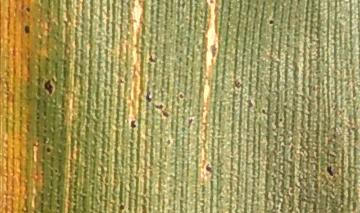tarspot: (42, 78, 55, 96), (324, 163, 336, 177), (232, 78, 244, 91), (147, 53, 158, 66), (204, 161, 214, 174), (245, 97, 255, 110), (144, 90, 153, 104), (128, 118, 138, 130), (158, 110, 171, 119), (153, 100, 164, 110), (186, 115, 193, 129), (23, 24, 31, 35), (117, 202, 126, 211), (259, 107, 268, 116), (117, 77, 127, 85), (176, 92, 186, 100), (266, 18, 276, 26), (45, 145, 53, 155), (275, 115, 284, 123), (165, 136, 172, 146), (24, 5, 32, 13)
